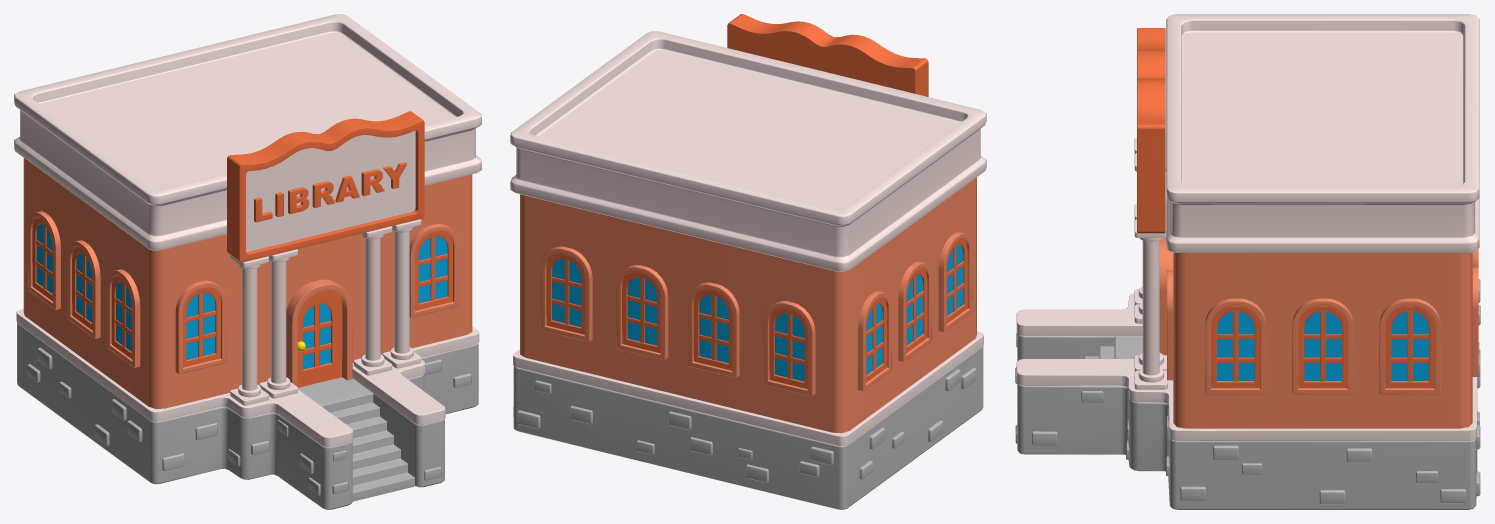
The model's file is Public_2_Library_1.glb.
3 renders of one model, left to right at view 1: azimuth 30°, elevation 25°; view 2: azimuth 150°, elevation 25°; view 3: azimuth 270°, elevation 25°, orthographic. The views are drawn at different scales.
Parts seen in each view (by area): view 1: Public_2_Library_1; view 2: Public_2_Library_1; view 3: Public_2_Library_1.
Part boxes in pixels (x1=…): Public_2_Library_1: x1=14, y1=14, x2=481, y2=509; Public_2_Library_1: x1=510, y1=14, x2=986, y2=509; Public_2_Library_1: x1=1015, y1=14, x2=1480, y2=509.
Bounding box in the file's own units: 9.04 × 8.32 × 9.92.
1 material, 1 textured.
